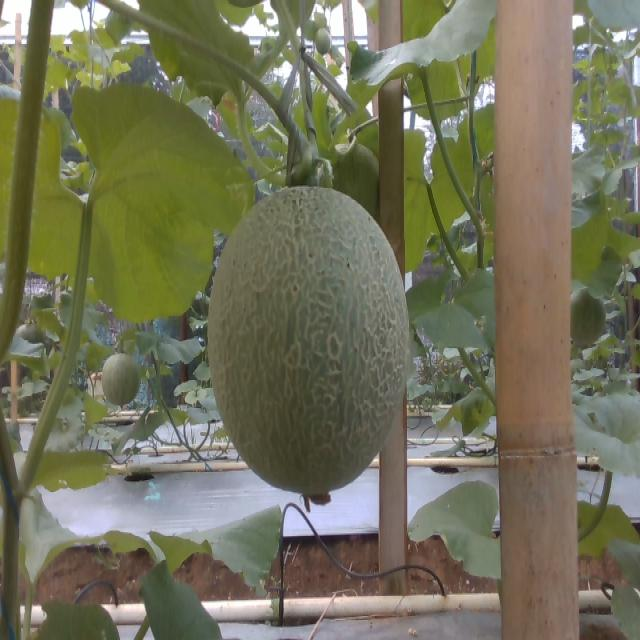melon: (208, 185, 409, 497)
